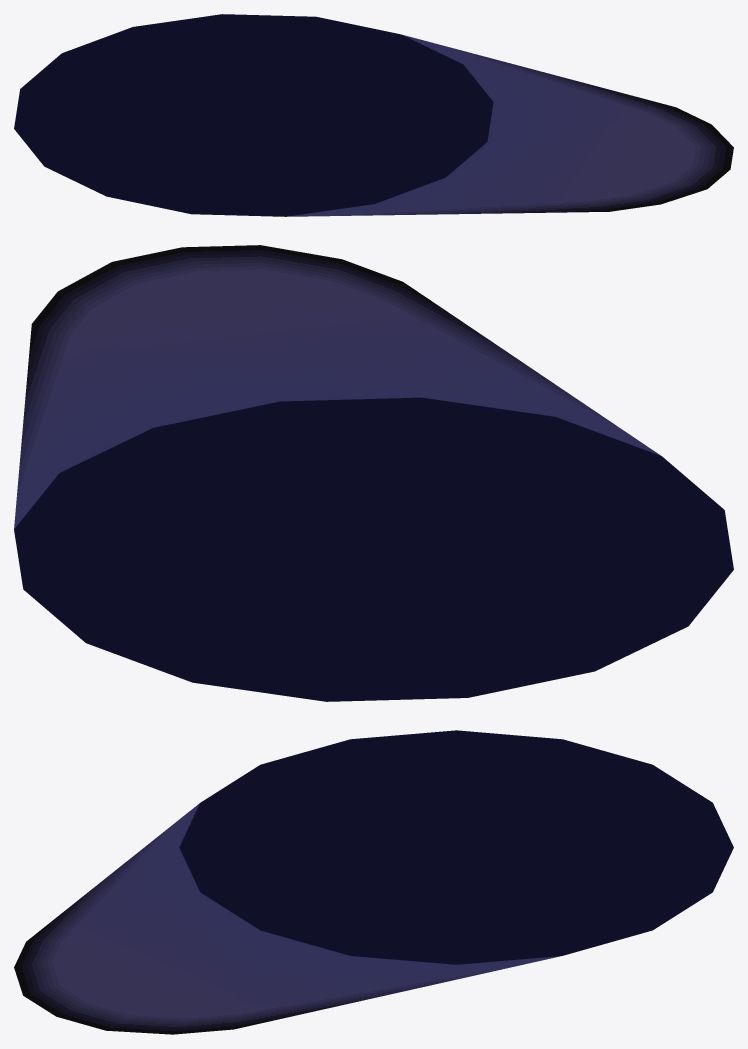
3 renders of one model, top to bottom at view 1: azimuth 30°, elevation 25°; view 2: azimuth 150°, elevation 25°; view 3: azimuth 270°, elevation 25°, orthographic. The views are drawn at different scales.
Visible parts, largest first — view 1: Joint_0_Object_0; view 2: Joint_0_Object_0; view 3: Joint_0_Object_0.
Boxes of the visible parts, x1,y1,x2,y2 form: Joint_0_Object_0: (14,14,733,216); Joint_0_Object_0: (14,245,733,701); Joint_0_Object_0: (14,730,733,1034).
Bounding box in the file's own units: 494 × 0 × 494.
Materials: 1 (1 with a texture image).
